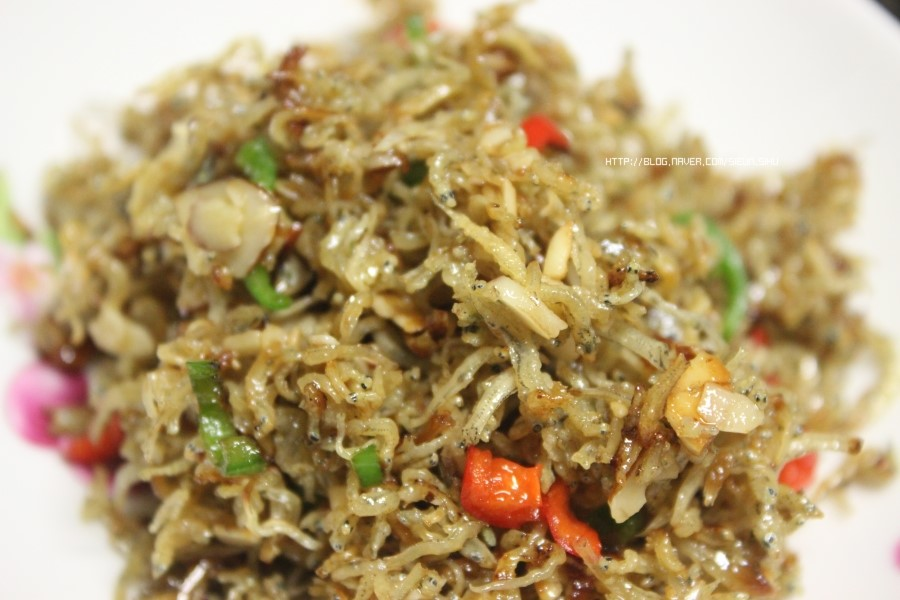myeolchibokk-eum: (48, 20, 856, 591)
